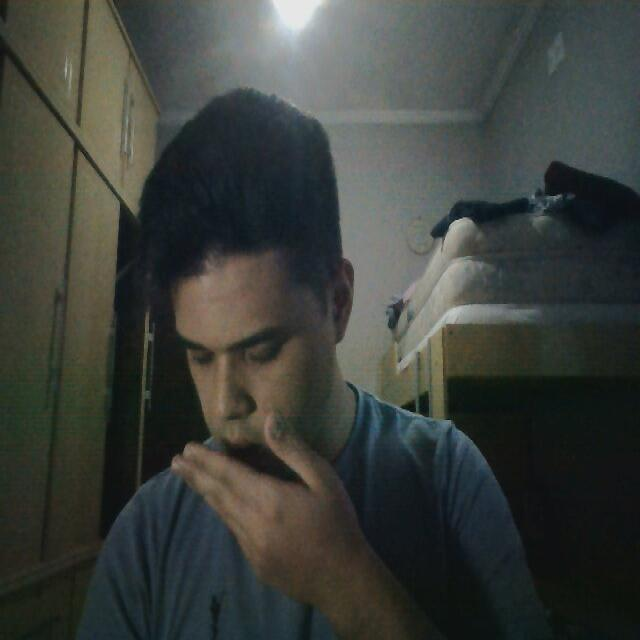sonolento: (136, 188, 362, 577)
